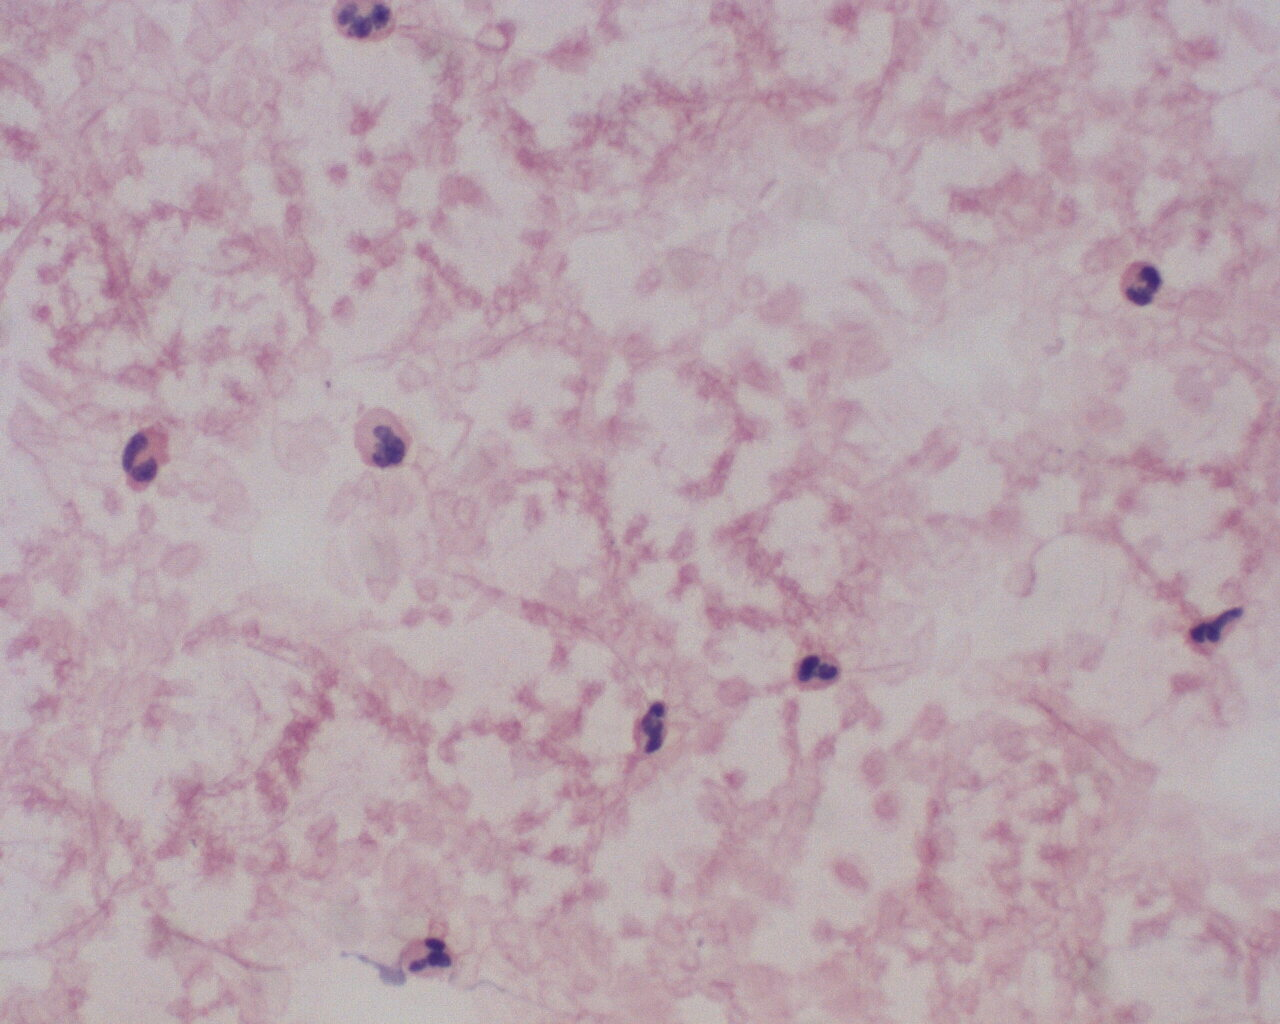neutro: (120, 423, 181, 499), (394, 922, 460, 985), (791, 645, 845, 698), (1116, 255, 1165, 308)
